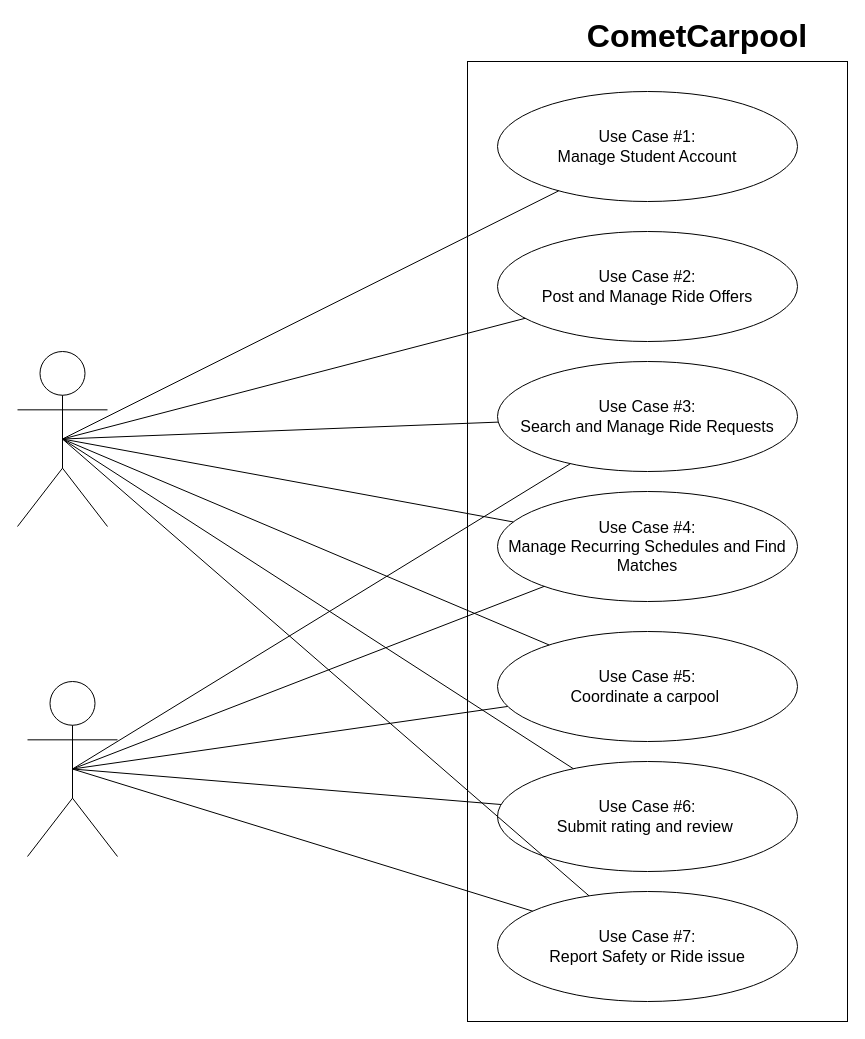
Some shapes in this 865 by 1039 pixel diagram are drawn without their labels. Here are the shapes that lost their labels. From the top down, the centre of each, then its label:
At (62,438): "Student Driver".
At (72,768): "Student Rider".
